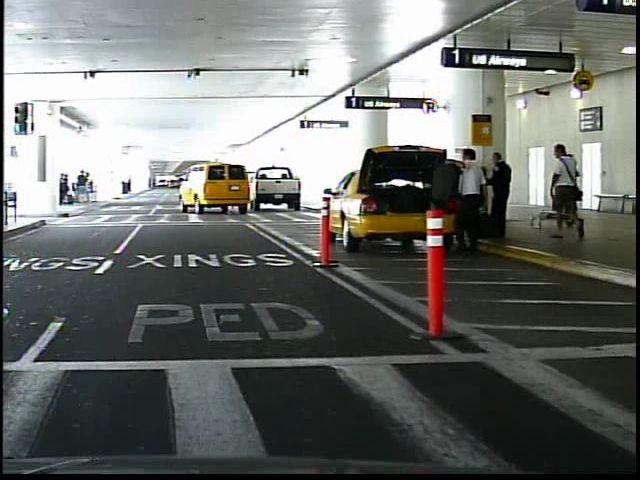person: (541, 138, 583, 240)
